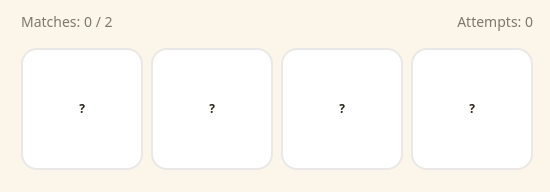
Test case: MemoryPlayer › counts every pair of flips as one attempt, win or lose
The width and height of the screenshot is (550, 192).
Click the 1st button "?".
click(82, 109)  # box [21,48,143,170]
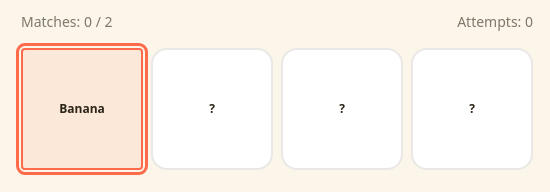
Click the 1st button "?".
click(212, 109)  # box [151,48,273,170]
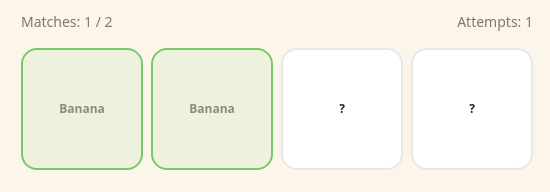
Check: the text "Attempts: 1" is shown, box [457,12,533,32]
